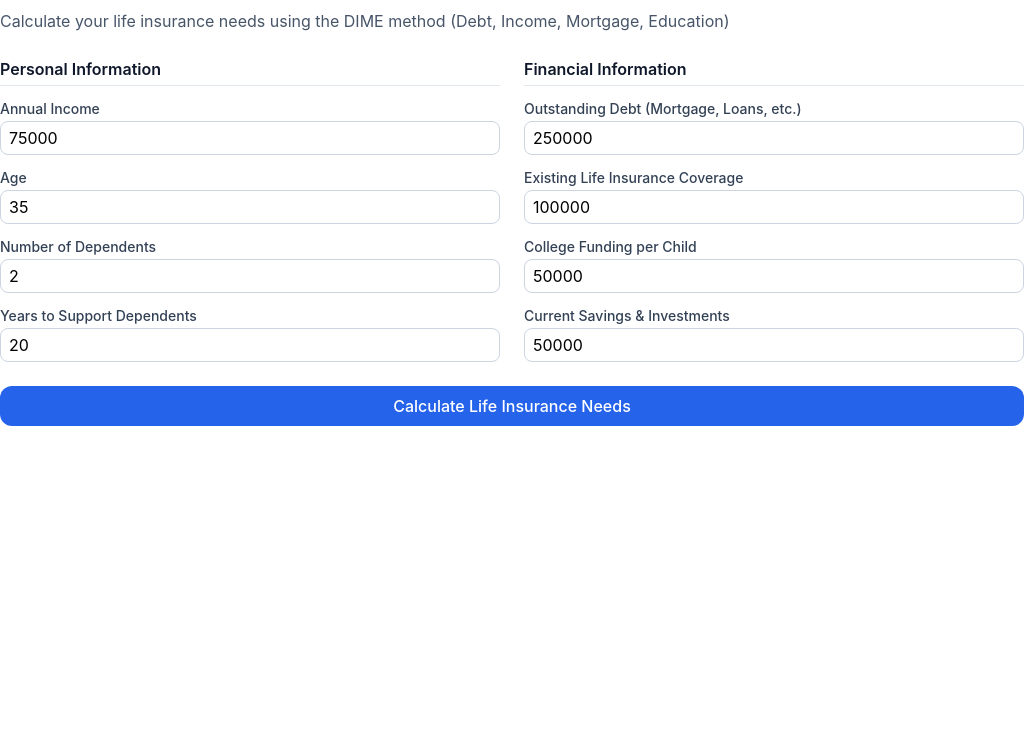
Test: Life Insurance Calculator › displays premium estimates
Click the button "Calculate Life Insurance Needs".
click(512, 406)  # box [0,386,1023,426]
(page scrolled)
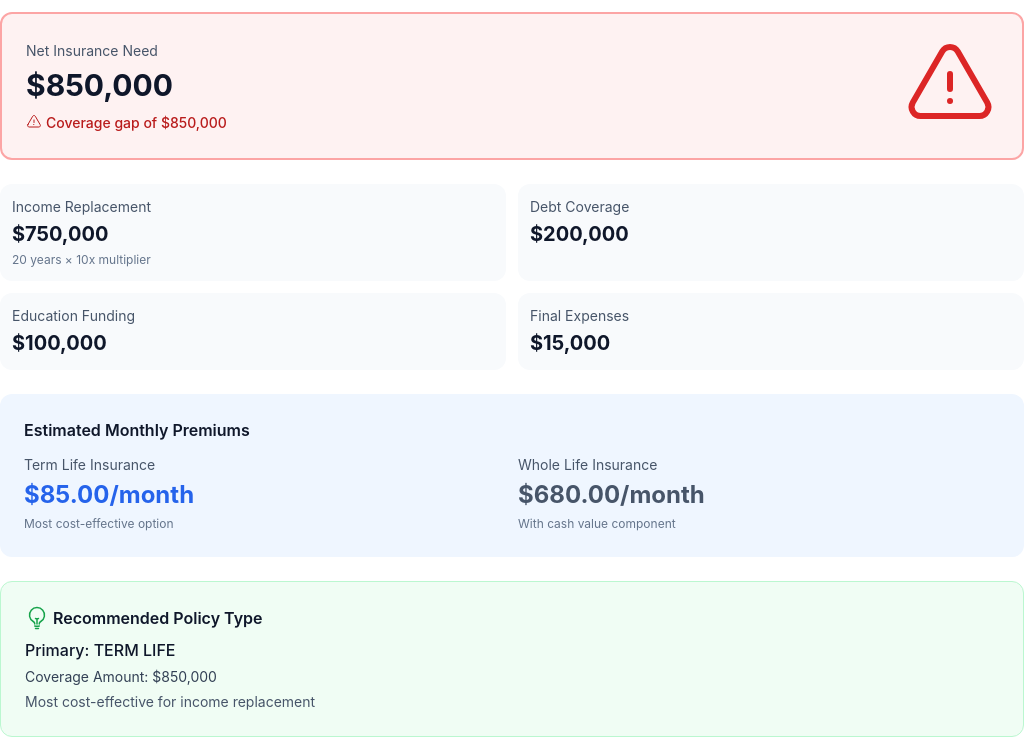
Now the text "Term Life Insurance" is shown, box [24,456,155,473]
Now the text "Whole Life Insurance" is shown, box [518,456,657,473]
